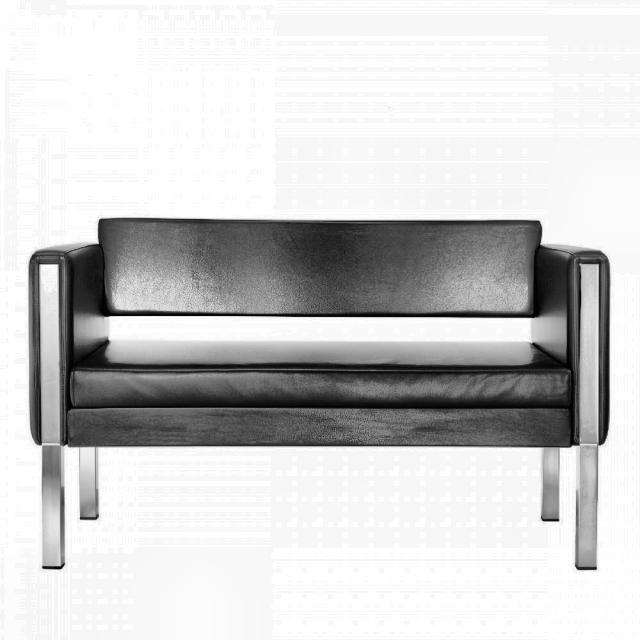sofa: (28, 216, 610, 572)
